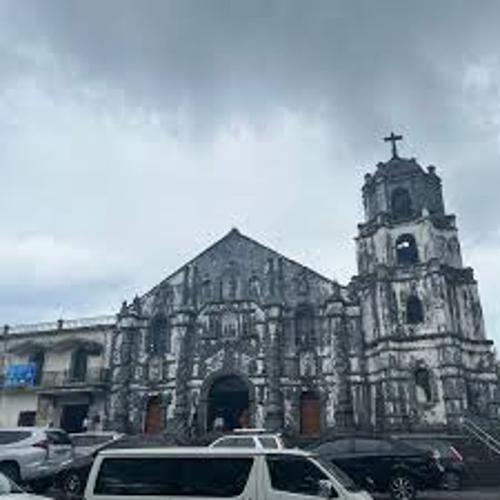Daraga Church: (112, 122, 500, 435)
